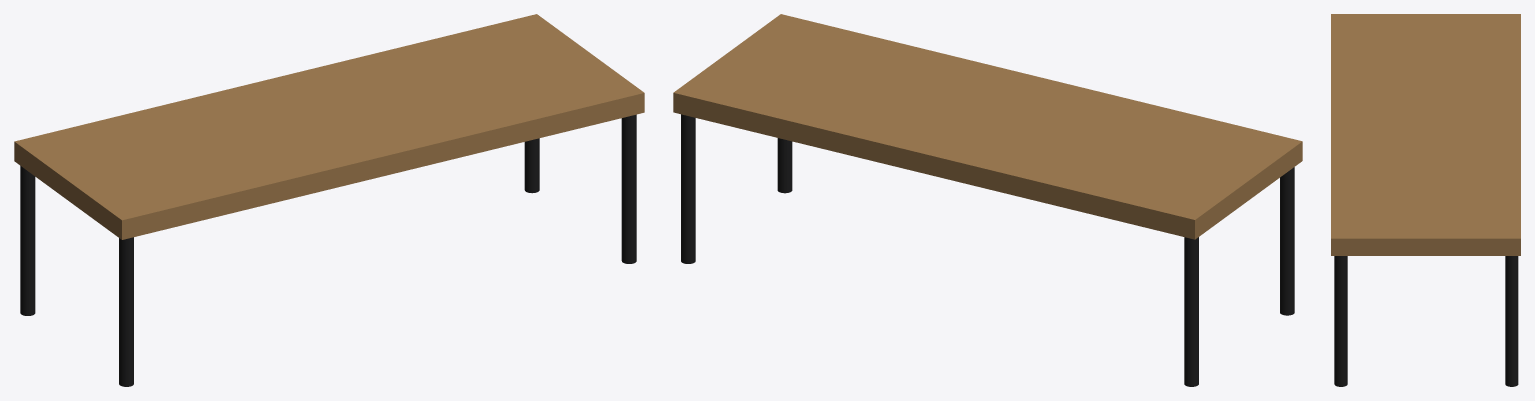
Rendered from BasicTableRectangle.fbx.
3 renders of one model, left to right at view 1: azimuth 30°, elevation 25°; view 2: azimuth 150°, elevation 25°; view 3: azimuth 270°, elevation 25°, orthographic. The views are drawn at different scales.
Parts seen in each view (by area): view 1: BasicTableRectangle; view 2: BasicTableRectangle; view 3: BasicTableRectangle.
Part boxes in pixels (<box>): BasicTableRectangle: <box>14,14,644,386</box>; BasicTableRectangle: <box>673,14,1302,386</box>; BasicTableRectangle: <box>1331,14,1520,386</box>.
Bounding box in the file's own units: 623 × 194 × 223.
